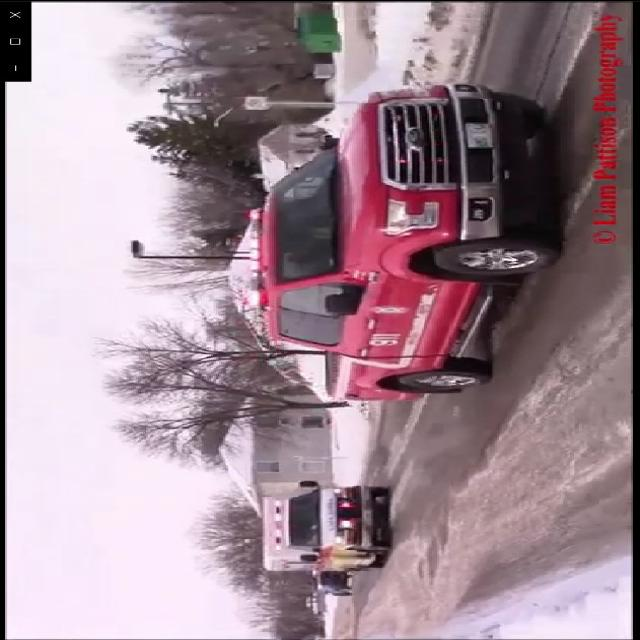emergency: (242, 72, 568, 400), (257, 472, 401, 574)
